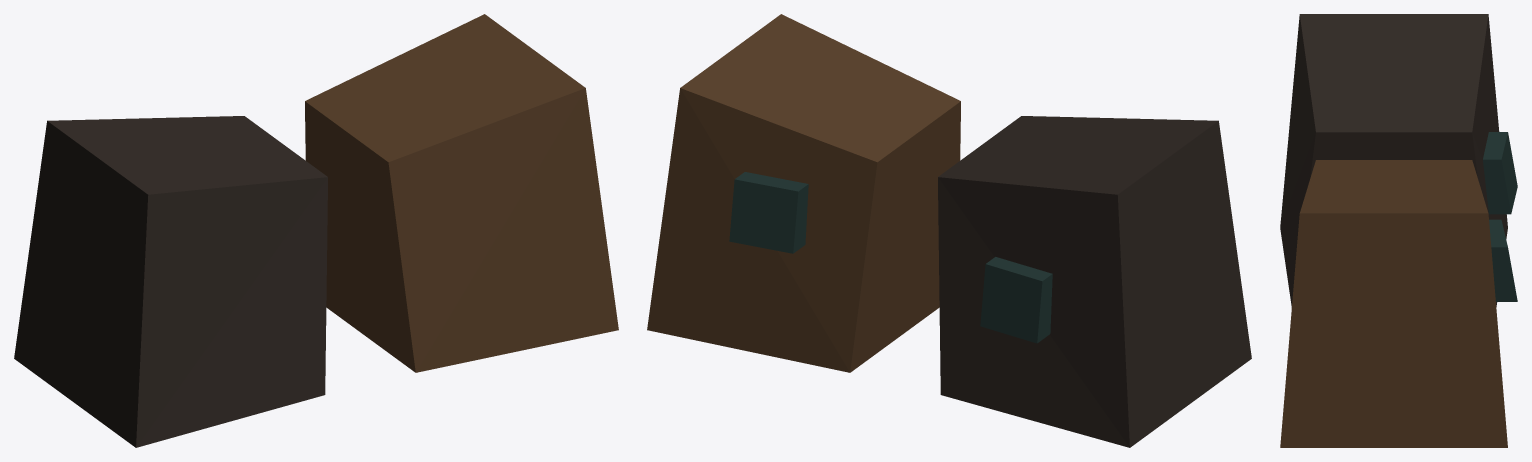
The model's file is piedras_eco.obj.
3 renders of one model, left to right at view 1: azimuth 30°, elevation 25°; view 2: azimuth 150°, elevation 25°; view 3: azimuth 270°, elevation 25°, orthographic. The views are drawn at different scales.
Parts seen in each view (by area): view 1: piedra_a, piedra_b; view 2: piedra_a, piedra_b, muesca_b, muesca_a; view 3: piedra_b, piedra_a, muesca_a, muesca_b.
Boxes of the visible parts, box(x1,y1,x2,y2) form: piedra_a: box(14, 116, 327, 447); piedra_b: box(305, 14, 618, 372); piedra_a: box(938, 116, 1251, 447); piedra_b: box(647, 14, 960, 372); muesca_b: box(729, 172, 808, 253); muesca_a: box(980, 257, 1052, 343); piedra_b: box(1280, 160, 1507, 447); piedra_a: box(1280, 14, 1507, 307); muesca_a: box(1483, 132, 1517, 214); muesca_b: box(1489, 219, 1517, 301).
Bounding box in the file's own units: 3.2 × 1.52 × 1.46.
